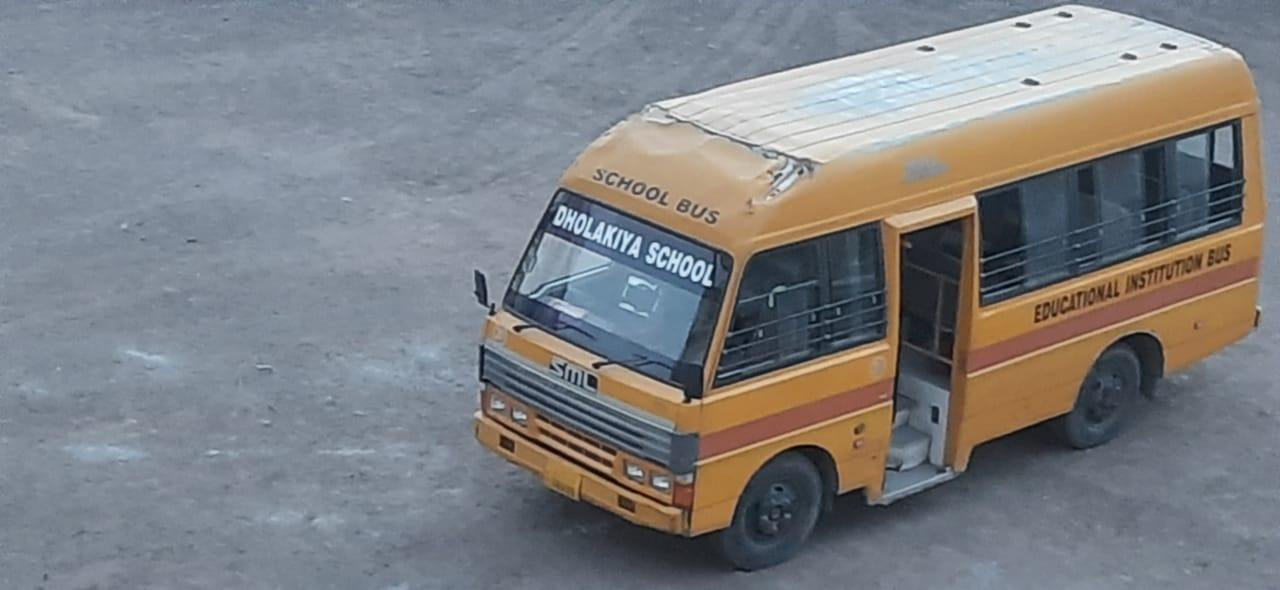Bus: (471, 3, 1272, 569)
